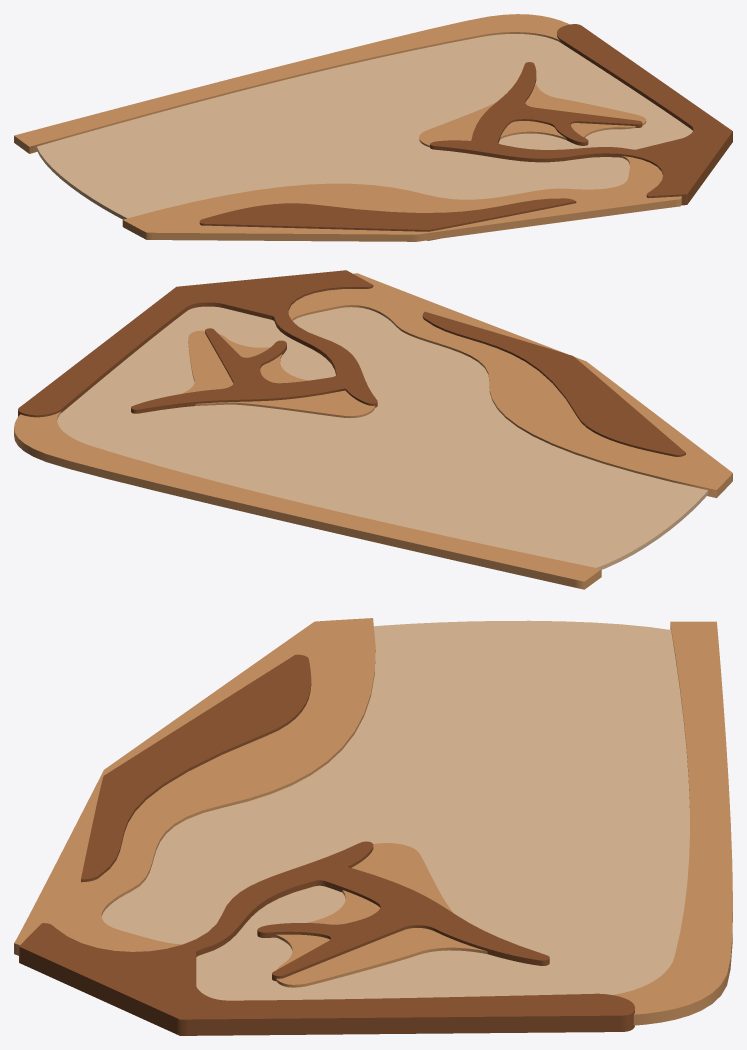
Rendered from emoji_u1f91c_1f3fc.glb.
3 views of the same model, one above another, from view 1: azimuth 30°, elevation 25°; view 2: azimuth 150°, elevation 25°; view 3: azimuth 270°, elevation 25° (orthographic). The views are drawn at different scales.
Visible parts, largest first — view 1: emoji_u1f91c_1f3fc; view 2: emoji_u1f91c_1f3fc; view 3: emoji_u1f91c_1f3fc.
Part boxes in pixels (bbox=[...]): emoji_u1f91c_1f3fc: bbox=[14, 14, 732, 241]; emoji_u1f91c_1f3fc: bbox=[14, 270, 732, 589]; emoji_u1f91c_1f3fc: bbox=[14, 618, 732, 1035].
Size of the model in its own units: 0.0318 by 0.0006 by 0.0239.
